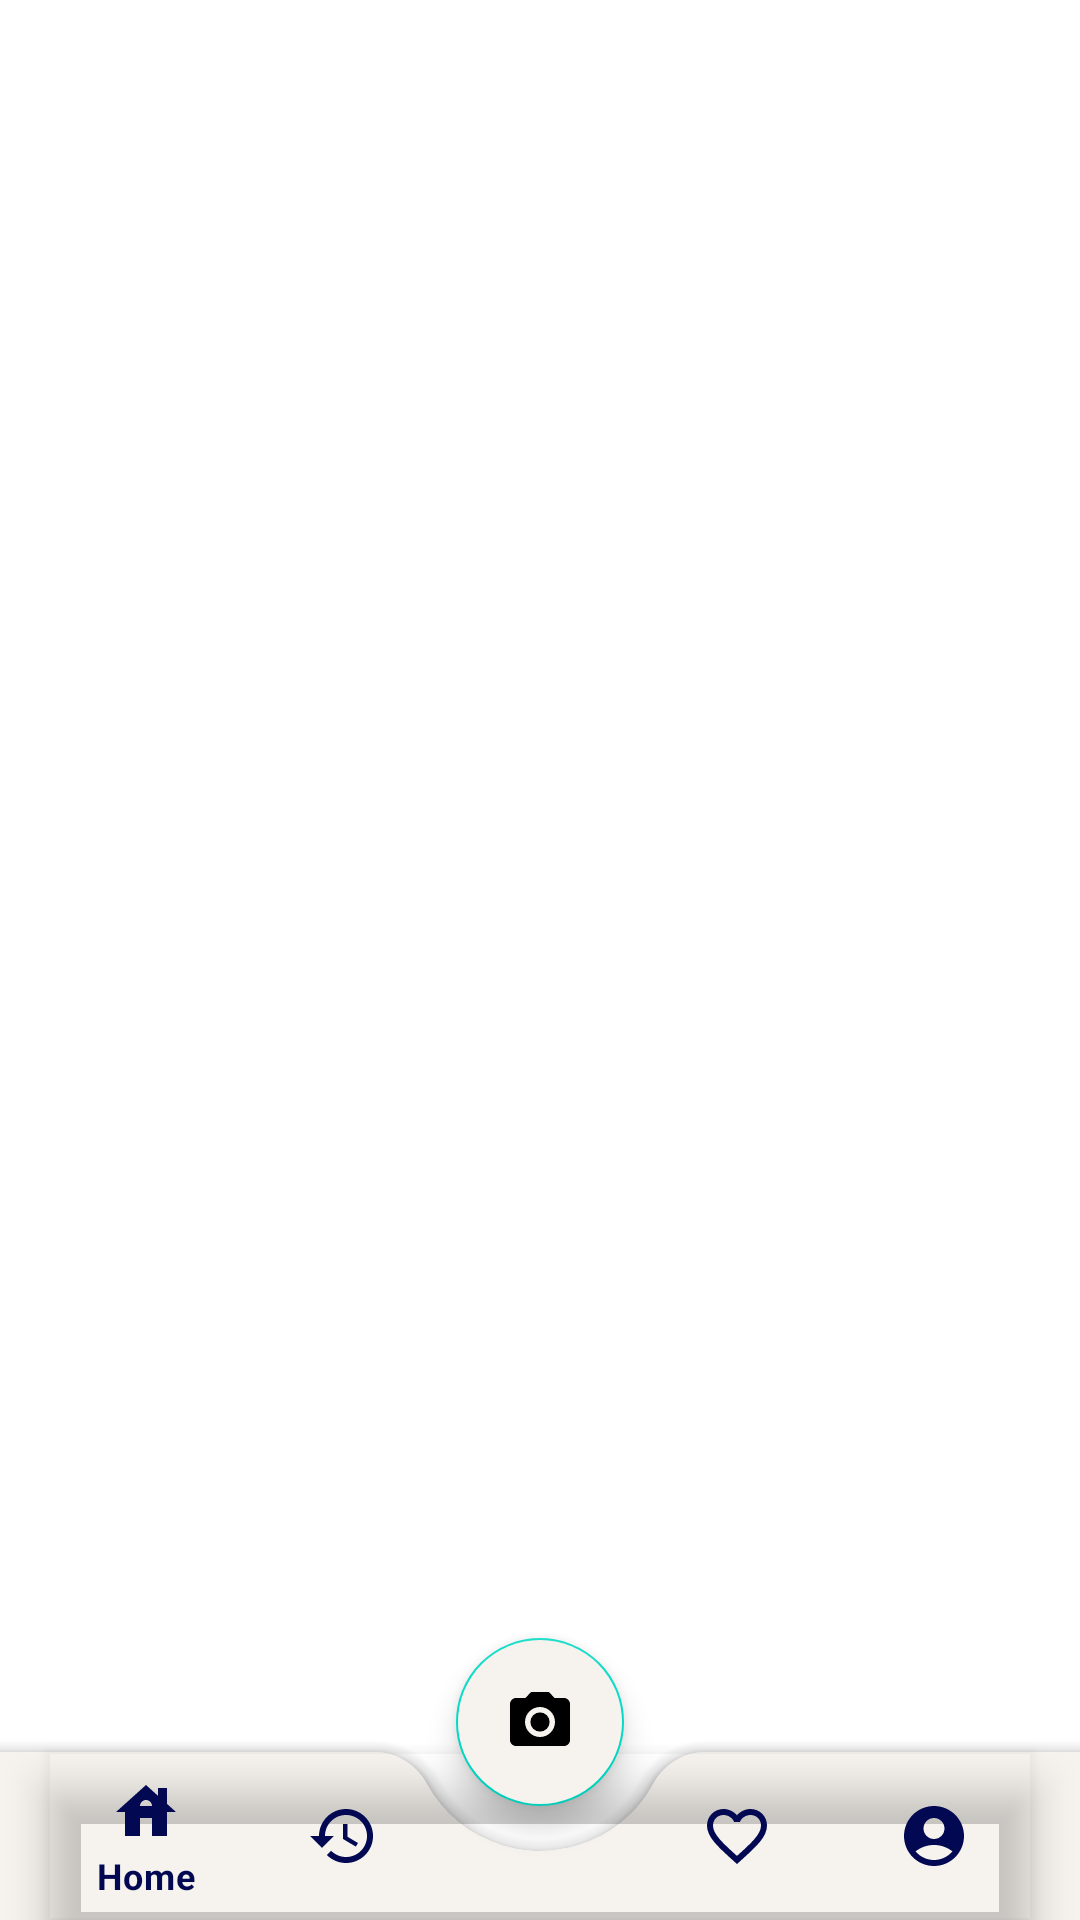

Icons on this 1080px×1920px Android screen, each with its box as (x1, y1, x2, y2):
photo camera: (456, 1668, 624, 1836)
